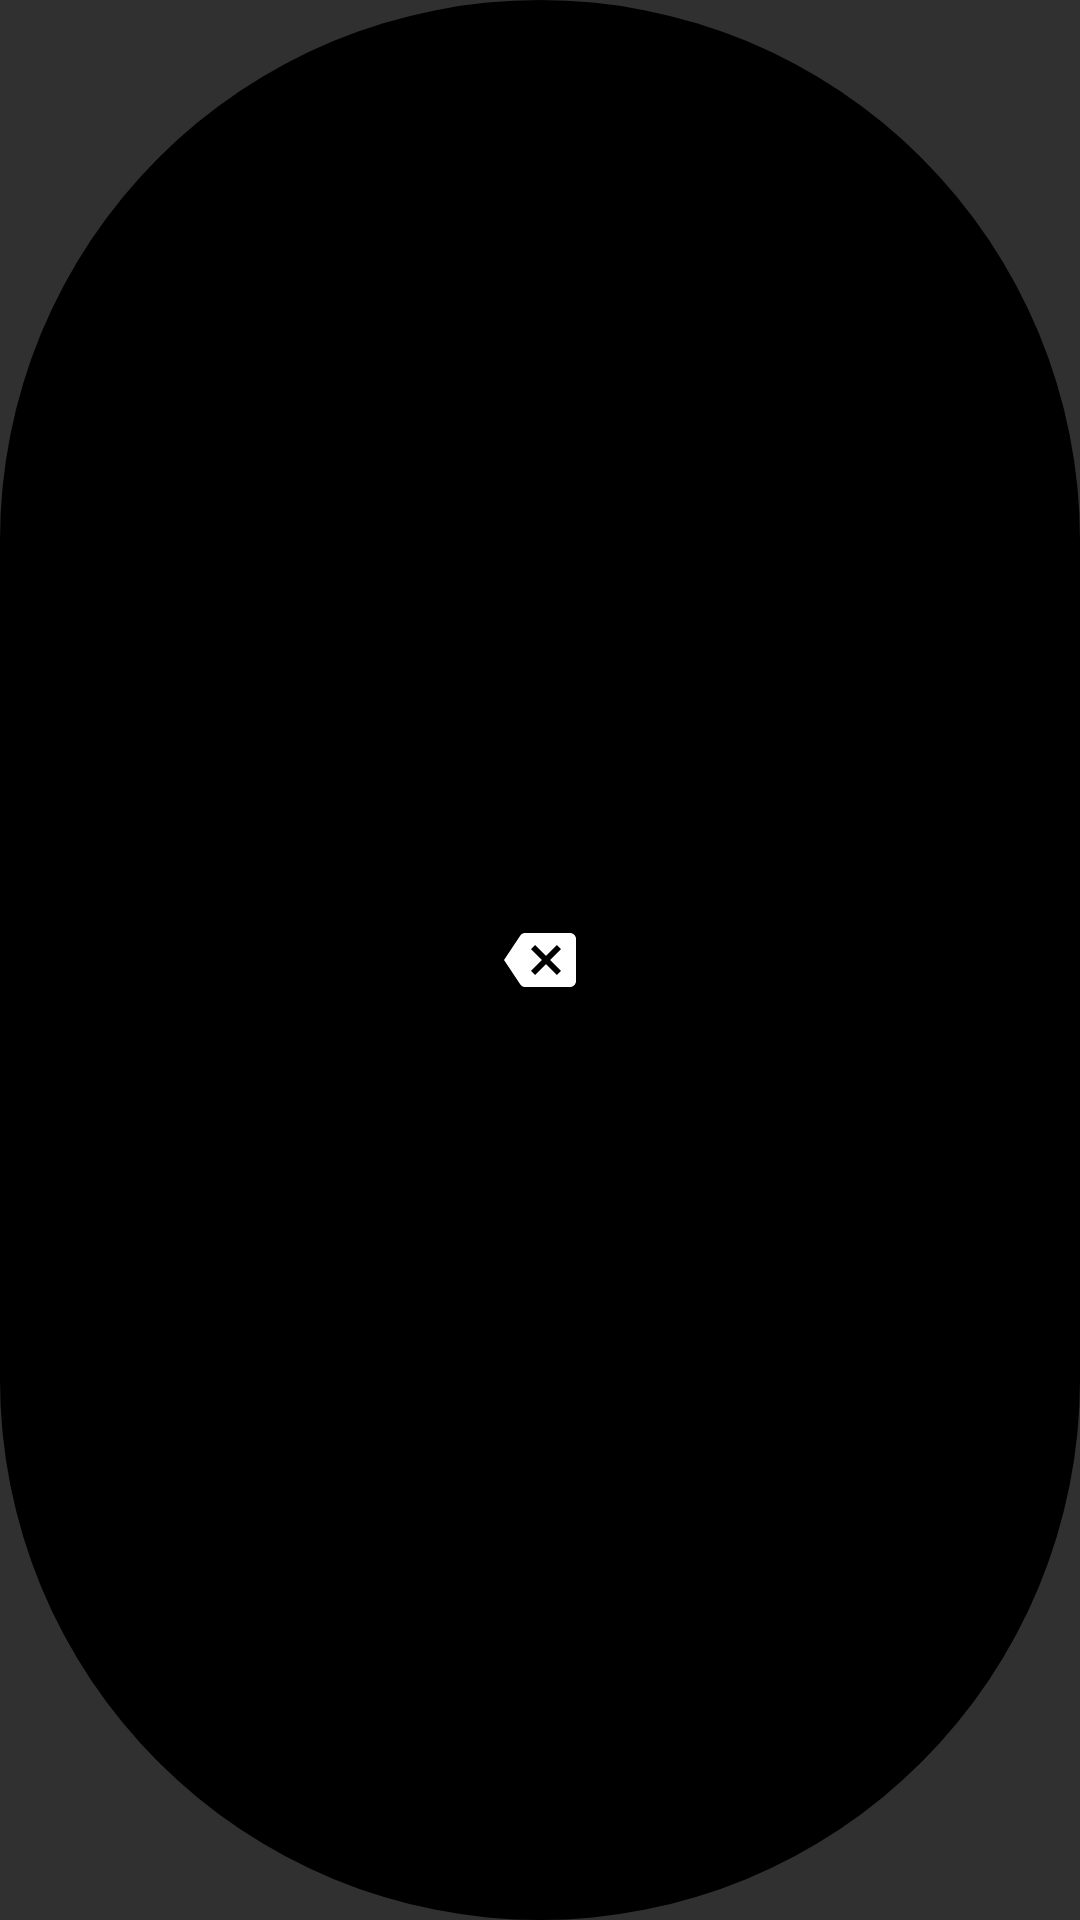

Icon bounding boxes for this 1080px×1920px phone screenshot, format (x1, y1, x2, y2):
back: (504, 933, 576, 987)
